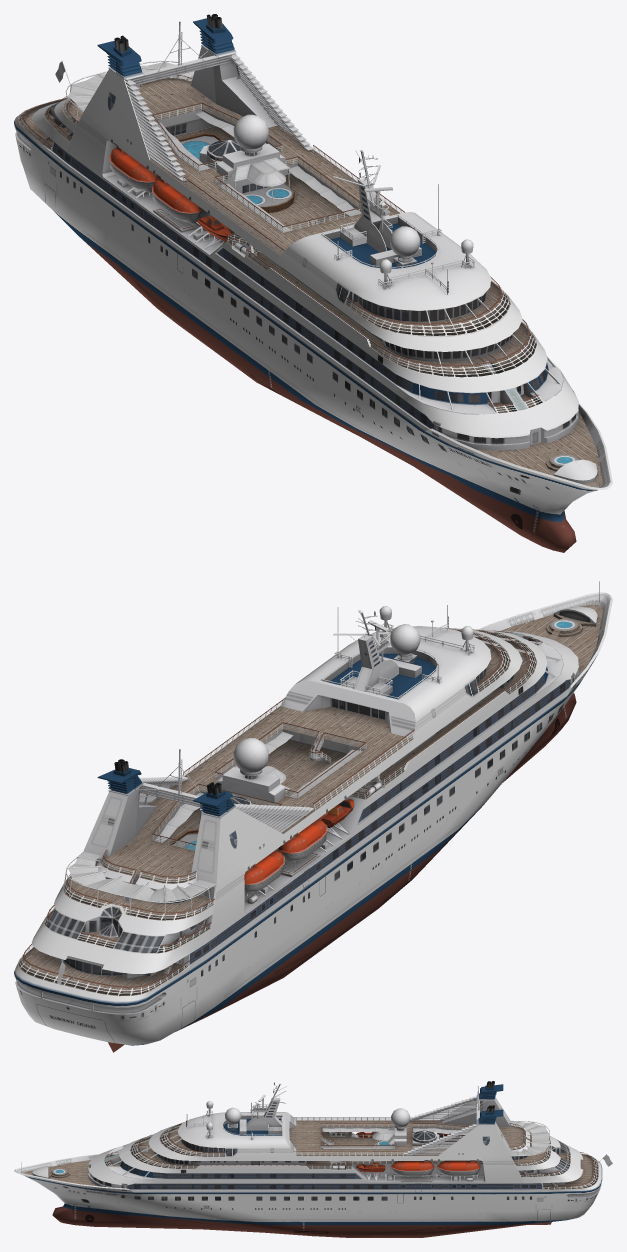
Rendered from Seabourn_Legend_Cruise_Ship.glb.
The picture shows the model from 3 angles, top to bottom: view 1: azimuth 30°, elevation 25°; view 2: azimuth 150°, elevation 25°; view 3: azimuth 270°, elevation 25°; orthographic projection. The views are drawn at different scales.
Parts seen in each view (by area): view 1: Cruiseship_WithoutRadars_02 - Default_0; view 2: Cruiseship_WithoutRadars_02 - Default_0; view 3: Cruiseship_WithoutRadars_02 - Default_0.
Boxes of the visible parts, box(x1,y1,x2,y2) form: Cruiseship_WithoutRadars_02 - Default_0: box(14, 14, 612, 552); Cruiseship_WithoutRadars_02 - Default_0: box(14, 581, 612, 1052); Cruiseship_WithoutRadars_02 - Default_0: box(14, 1081, 612, 1237).
Size of the model in its own units: 21.56 by 35.77 by 137.
Materials: 1 (1 with a texture image).
